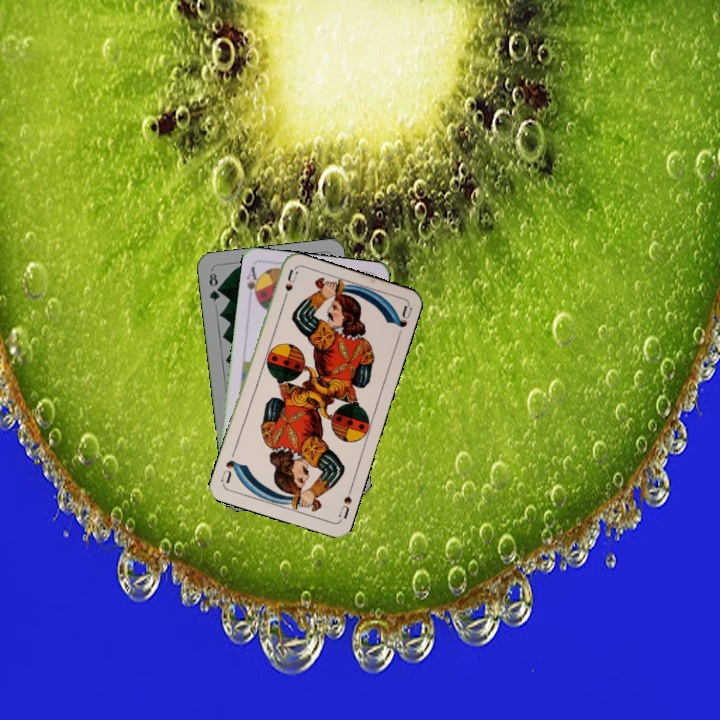G8: (205, 269, 223, 304)
SA: (243, 262, 263, 303)
SU: (278, 266, 301, 306), (334, 483, 355, 523)
